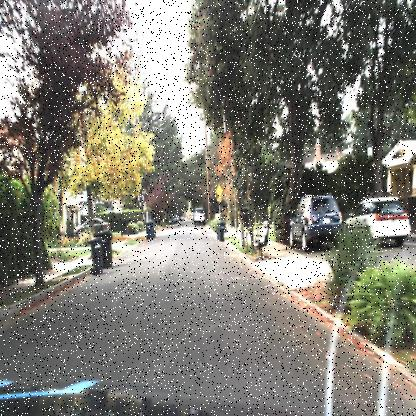car: (342, 187, 415, 245), (284, 191, 344, 256), (72, 211, 110, 239), (191, 204, 208, 230), (191, 205, 207, 226), (166, 211, 178, 226)
